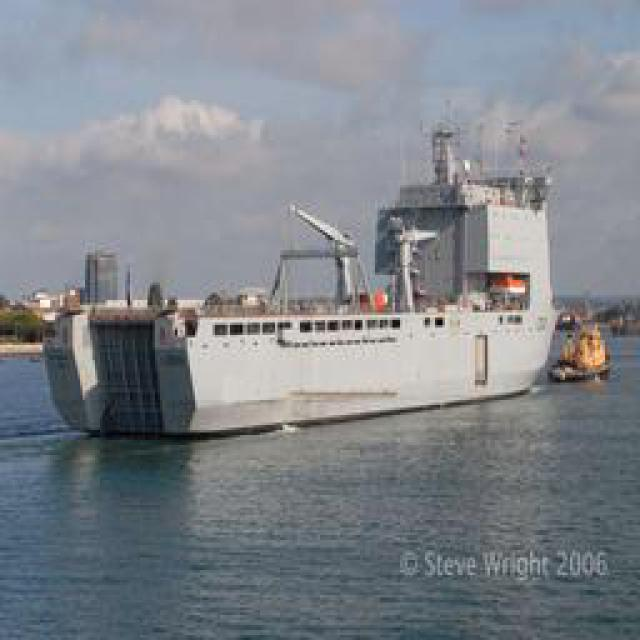Ship: (40, 124, 564, 449), (546, 320, 616, 387)
